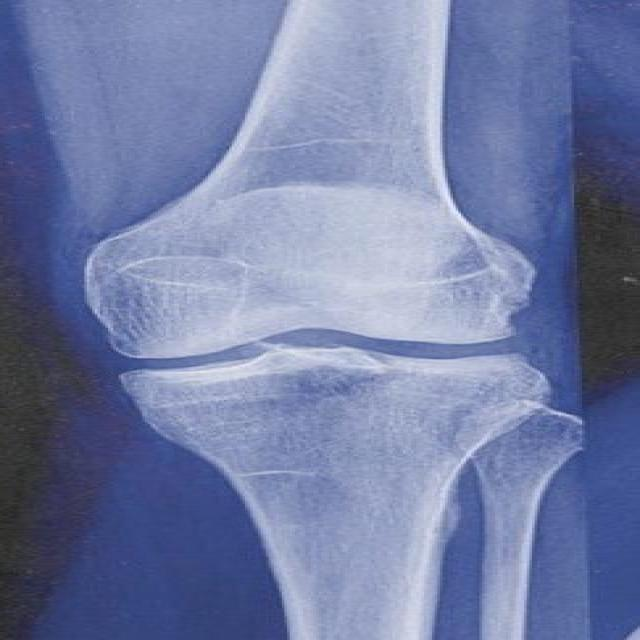Hairline: (218, 100, 522, 177)
